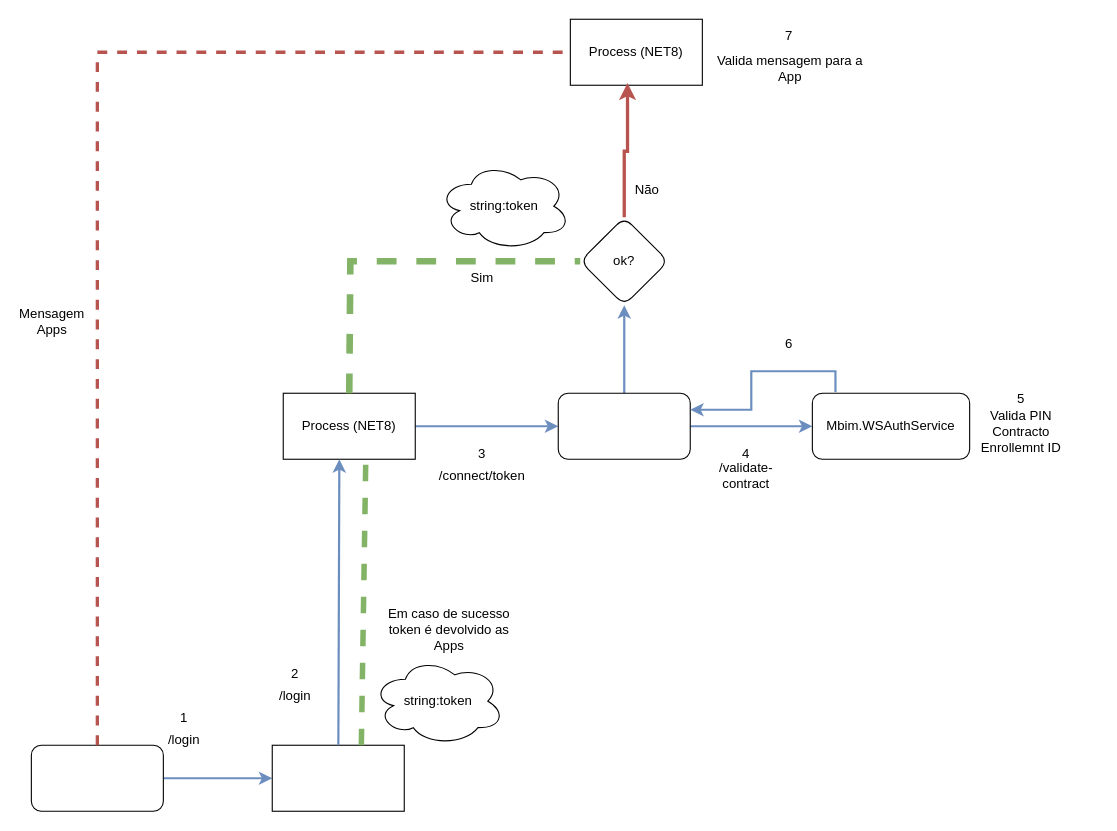
The diagram is 1117 pixels wide and 831 high, and some of its shapes have lost their labels. Here are the shapes that lost their labels. From the top down, the box of each, then its label:
(557, 392, 690, 459): IDP
(30, 744, 163, 811): APPS
(271, 744, 404, 811): Experience (NET8)
